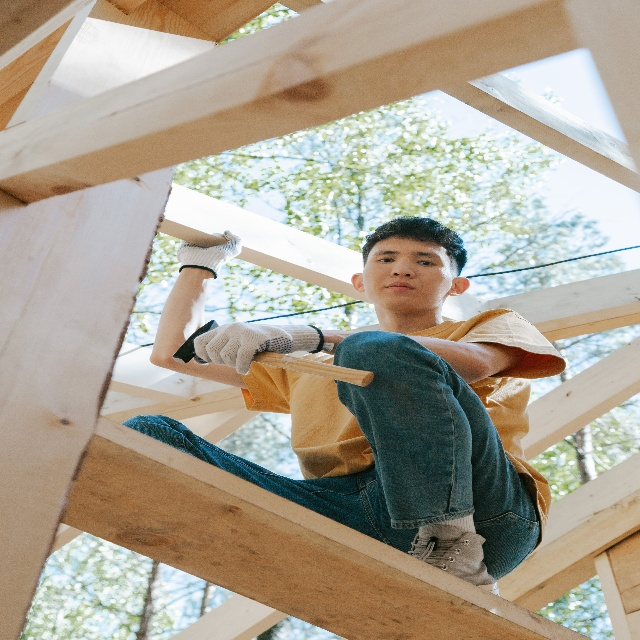Guantes: (193, 322, 324, 376), (176, 229, 242, 280)
